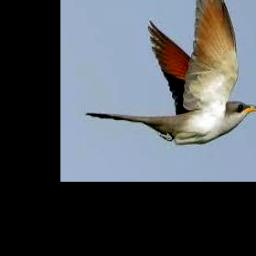Cuckoo: (86, 0, 256, 143)
